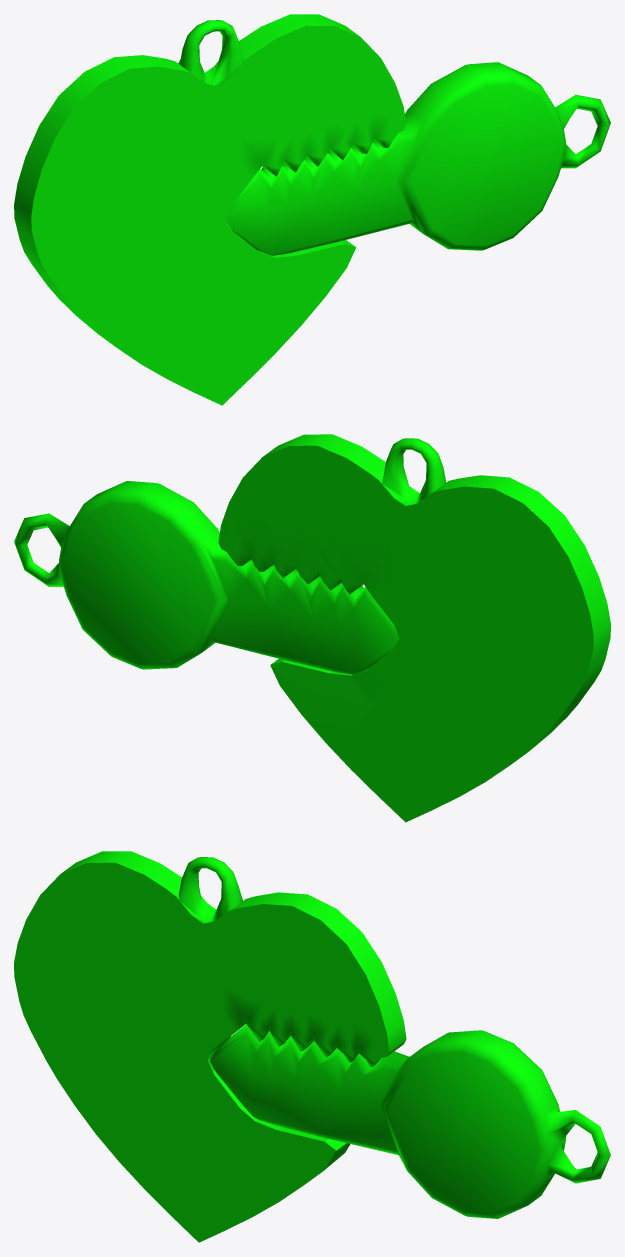
The model's file is COEUR_CLEF_MESH.FBX.
The picture shows the model from 3 angles, top to bottom: view 1: azimuth 30°, elevation 25°; view 2: azimuth 150°, elevation 25°; view 3: azimuth 330°, elevation 25°; orthographic projection.
Parts seen in each view (by area): view 1: Coeur001; view 2: Coeur001; view 3: Coeur001.
Part boxes in pixels (<box>): Coeur001: <box>14,14,610,405</box>; Coeur001: <box>14,434,610,822</box>; Coeur001: <box>14,851,610,1242</box>.
Size of the model in its own units: 8.24 by 5.04 by 0.5613.
